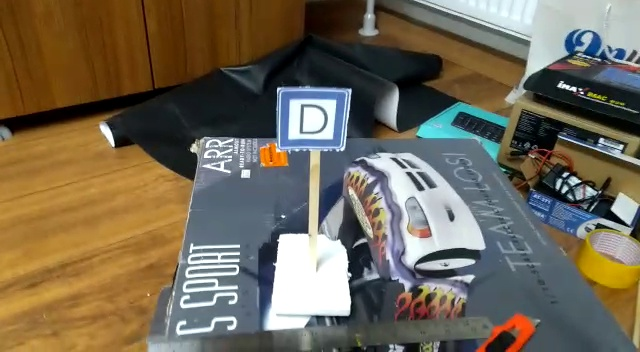durak: (282, 97, 345, 150)
